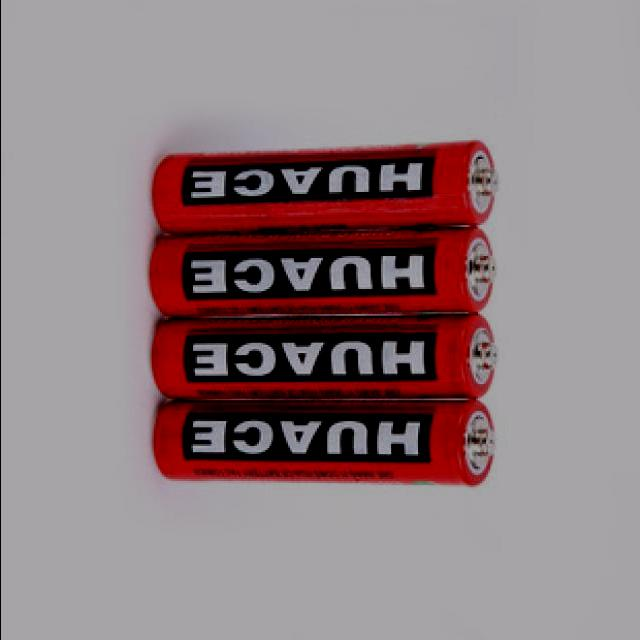AA: (144, 138, 508, 238), (146, 400, 504, 493), (143, 316, 507, 406), (145, 240, 508, 314)
